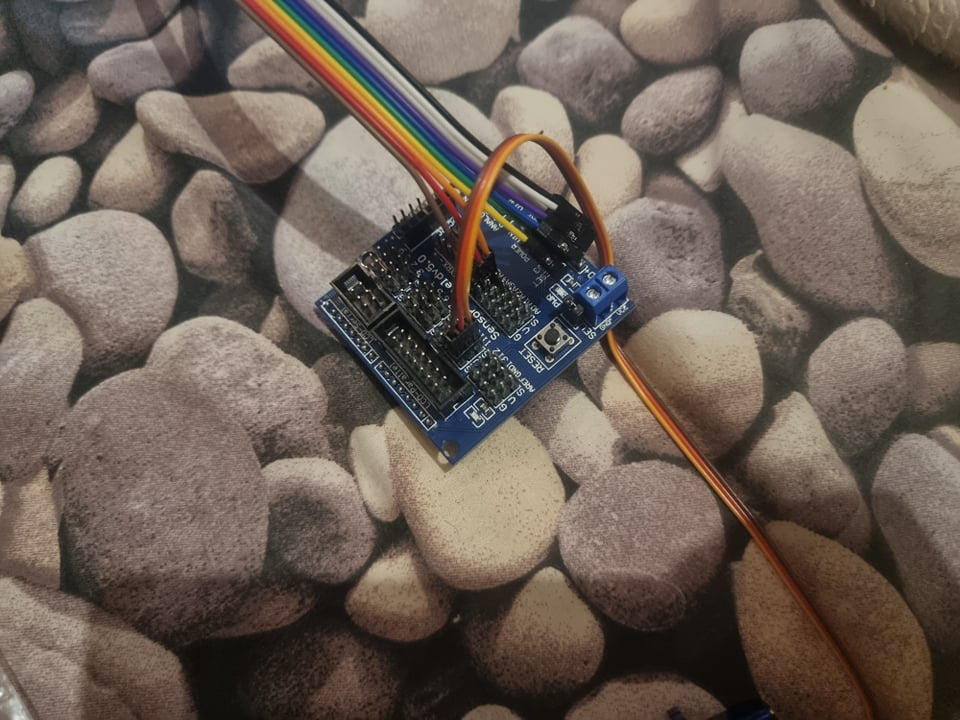5V EXPANSION: (311, 177, 636, 465)
